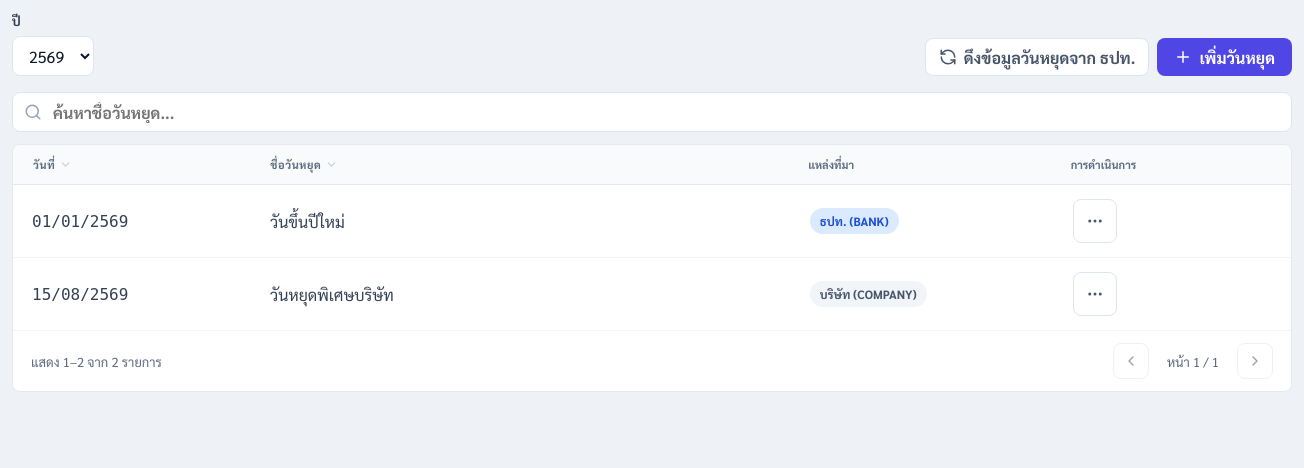
HolidaysTab › reports a genuine BOT import as a success toast plus a per-year breakdown
Expected: the text "วันขึ้นปีใหม่" is shown, [269,210,797,232]
Click the button "ดึงข้อมูลวันหยุดจาก ธปท.": (1037, 57) [925,38,1149,76]
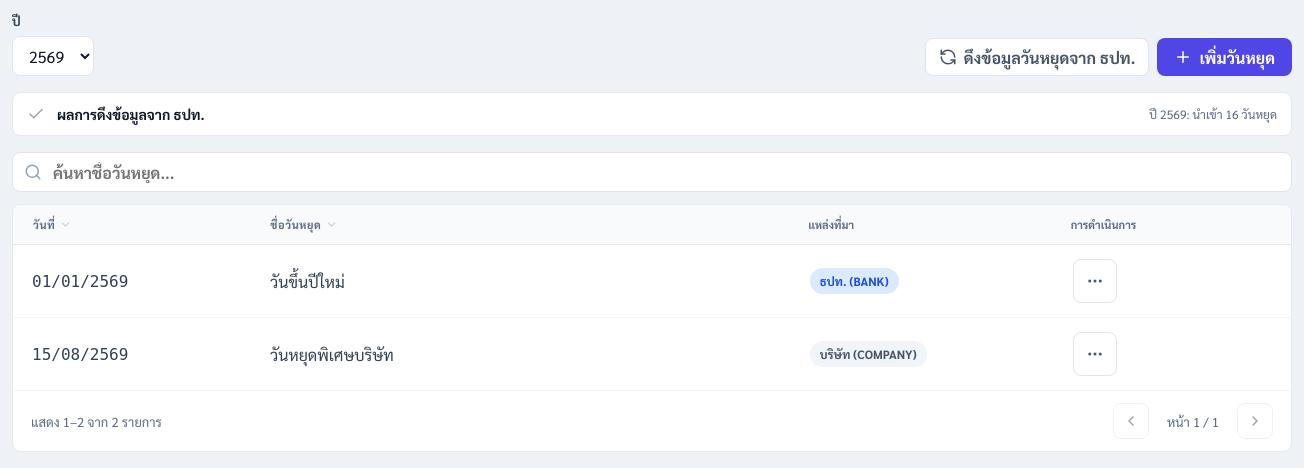
Now the list item "ปี 2569: นำเข้า 16 วันหยุด" is shown, box [1149,106,1277,122]
